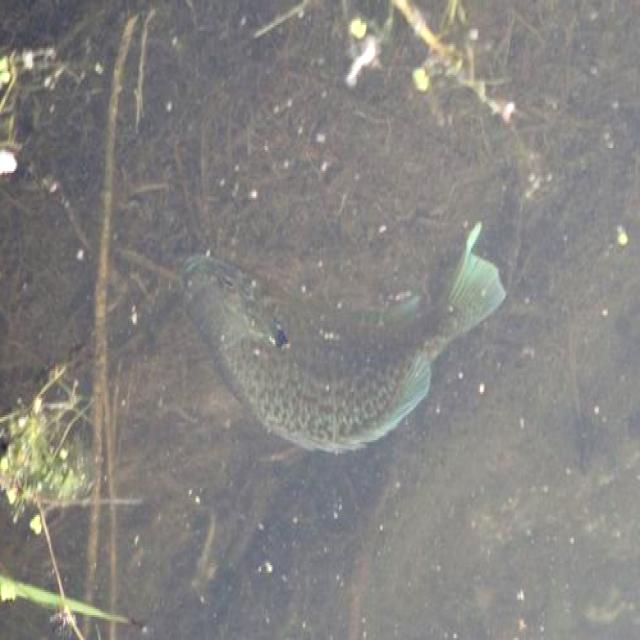Gunes Levregi: (177, 227, 507, 461)
